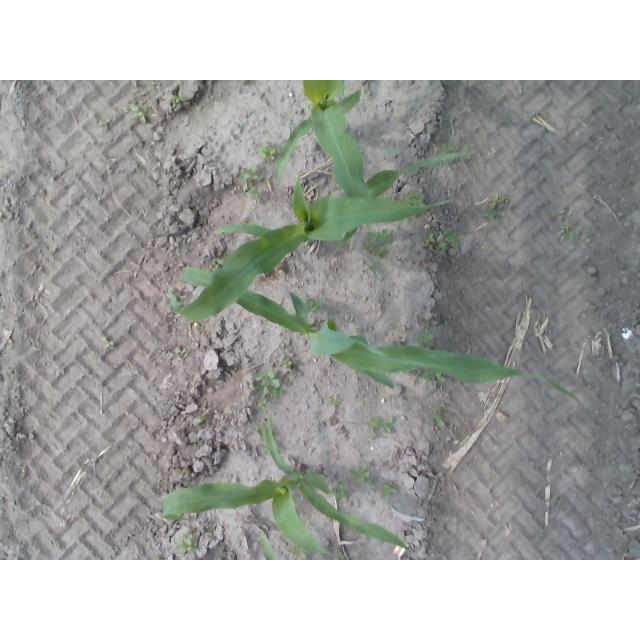Maize: (178, 266, 582, 407), (168, 177, 454, 321), (160, 421, 415, 554), (274, 80, 475, 197), (254, 534, 278, 559)
Weeds: (253, 368, 279, 392), (443, 226, 462, 250), (129, 105, 151, 124), (175, 535, 197, 554), (351, 463, 370, 483), (259, 141, 278, 160), (362, 263, 381, 282), (371, 416, 393, 432), (491, 194, 509, 210), (239, 168, 258, 181), (337, 484, 351, 501), (376, 228, 390, 245), (129, 89, 147, 102), (405, 192, 424, 204), (418, 331, 435, 344), (484, 203, 497, 219), (384, 481, 396, 497), (247, 187, 261, 200), (194, 418, 213, 427), (424, 372, 443, 381), (288, 548, 305, 558), (423, 234, 436, 247), (552, 209, 565, 221), (558, 221, 573, 231), (171, 347, 183, 359), (436, 416, 448, 428), (361, 240, 372, 253), (565, 231, 579, 241), (258, 399, 270, 410), (441, 143, 454, 153), (99, 119, 110, 130), (102, 337, 114, 347), (309, 301, 319, 312), (374, 247, 384, 258), (280, 361, 292, 370), (328, 398, 340, 407), (270, 390, 283, 398), (435, 243, 448, 251), (244, 181, 250, 195), (367, 230, 377, 238), (171, 97, 182, 104), (123, 107, 129, 114), (151, 82, 161, 86)
